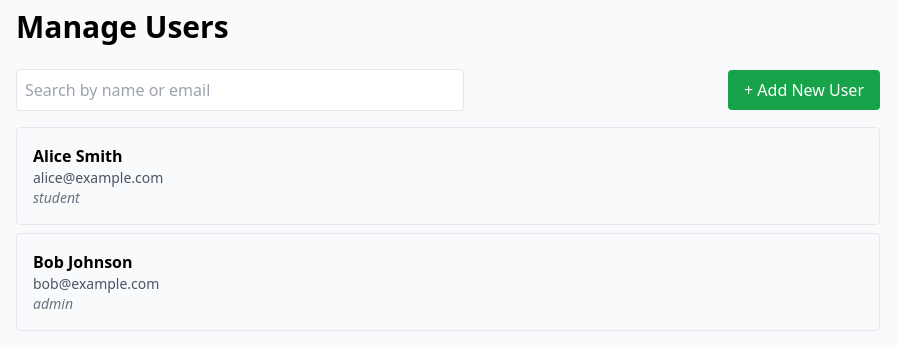
Test: UsersAdmin › shows fallback message if no users match search
Type "nonexistent" into the field with placeholder "Search by name or email".
click(240, 90); type("nonexistent")  # box [16,69,464,111]
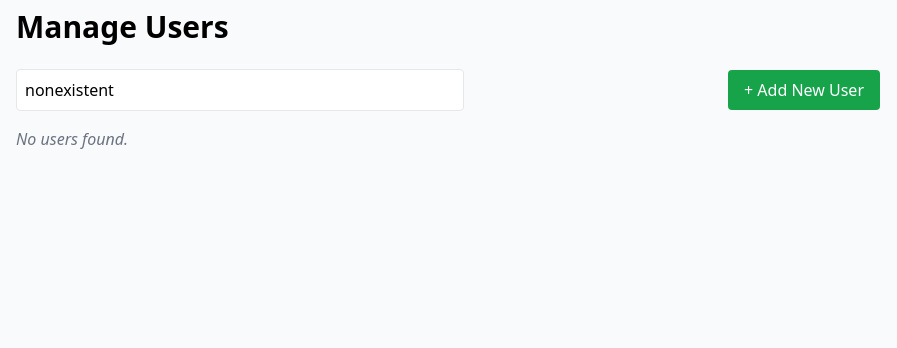
Result: the list item "No users found." is shown at [16,128,128,150]
